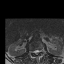CCS_normal: (36, 48, 37, 56)
LFS_normal: (39, 47, 41, 54)
LLS_normal: (37, 48, 39, 54)
RFS_normal: (32, 48, 34, 54)
RLS_normal: (34, 48, 36, 55)
